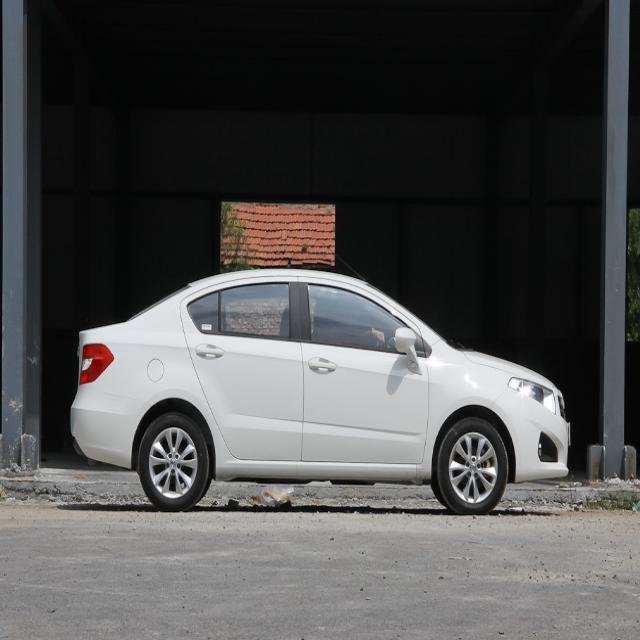back_right_side_light: (76, 342, 115, 387)
door: (182, 278, 300, 475)
front_bumper: (490, 382, 571, 482)
front_right_side_door: (296, 273, 431, 471)
front_right_side_light: (508, 370, 557, 421)
front_right_side_mirror: (393, 325, 418, 366)
rear_bumper: (74, 392, 136, 468)
wheel: (138, 413, 208, 511), (438, 417, 508, 515)
